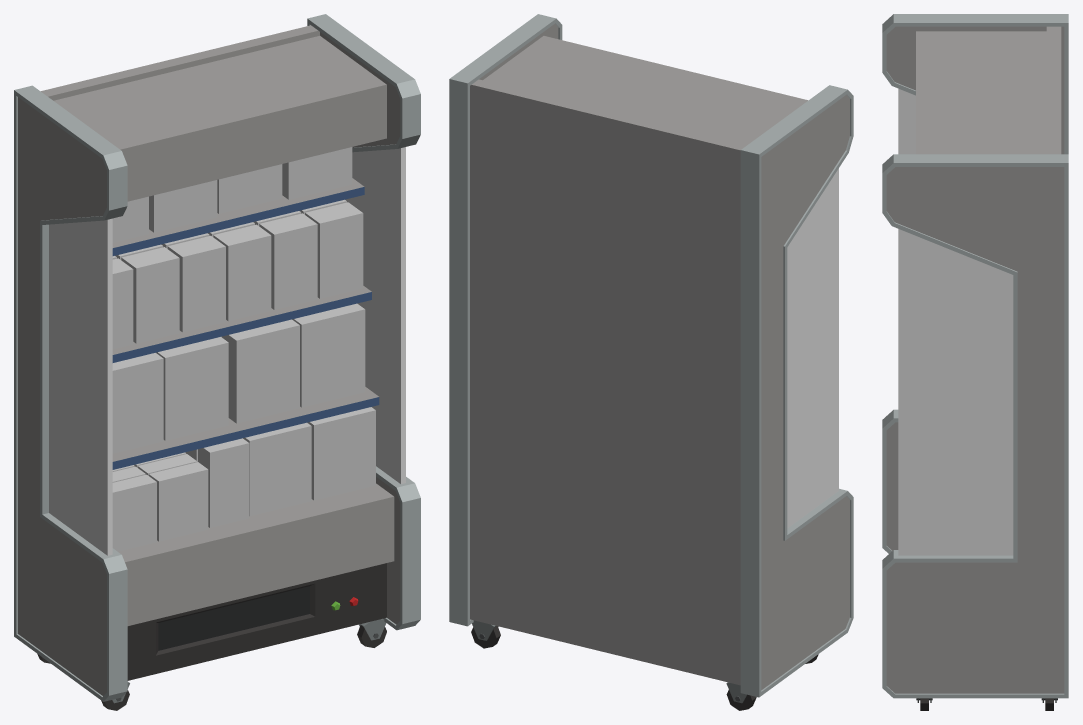
Rendered from SM_Props_Interior_SuperMarket_Display_Small_Preset_01.fbx.
3 renders of one model, left to right at view 1: azimuth 30°, elevation 25°; view 2: azimuth 150°, elevation 25°; view 3: azimuth 270°, elevation 25°, orthographic. The views are drawn at different scales.
Visible parts, largest first — view 1: SM_Props_Interior_SuperMarket_Display_Small_Preset_01, SM_Props_Interior_SuperMarket_Display_Small_Preset_01_Produc; view 2: SM_Props_Interior_SuperMarket_Display_Small_Preset_01; view 3: SM_Props_Interior_SuperMarket_Display_Small_Preset_01.
Boxes of the visible parts, box(x1,y1,x2,y2) form: SM_Props_Interior_SuperMarket_Display_Small_Preset_01: box(14, 14, 420, 710); SM_Props_Interior_SuperMarket_Display_Small_Preset_01_Produc: box(112, 147, 375, 551); SM_Props_Interior_SuperMarket_Display_Small_Preset_01: box(449, 14, 853, 710); SM_Props_Interior_SuperMarket_Display_Small_Preset_01: box(882, 14, 1068, 710).
Size of the model in its own units: 121 by 213 by 64.
